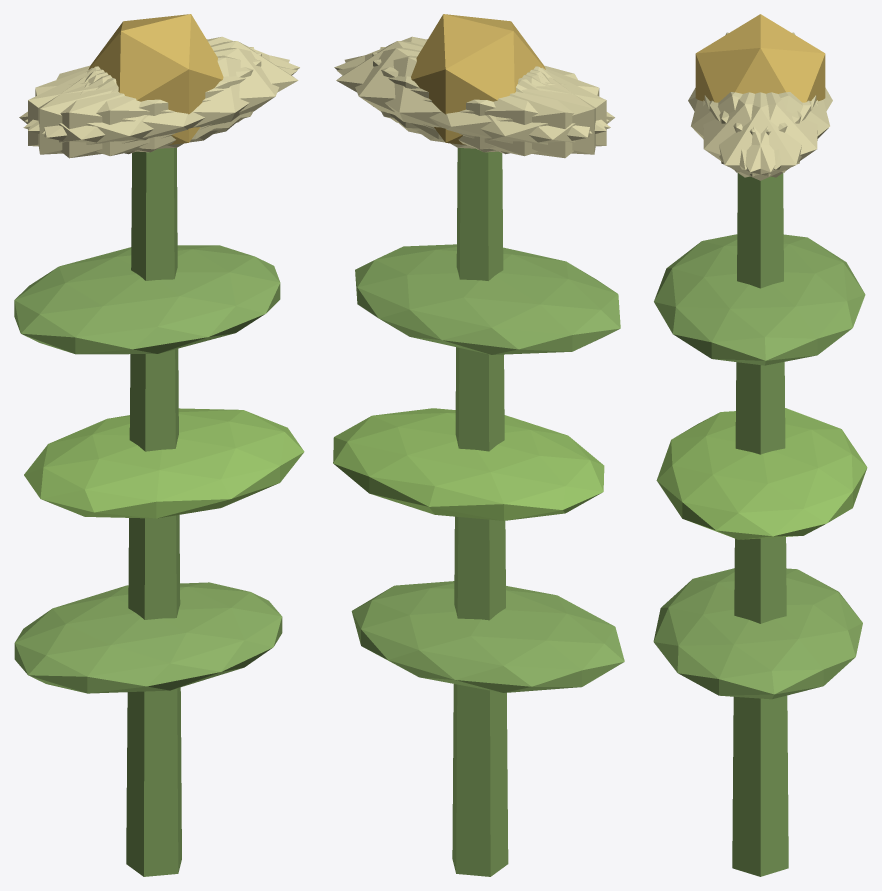
File: pachira-glabra.glb
The picture shows the model from 3 angles, left to right: view 1: azimuth 30°, elevation 25°; view 2: azimuth 150°, elevation 25°; view 3: azimuth 270°, elevation 25°; orthographic projection.
Visible parts, largest first — view 1: stem, leaf2, leaf1, leaf0, center, petal1, petal6, petal2, petal5, petal7, petal0, petal4 (+2 smaller); view 2: stem, leaf1, leaf2, leaf0, center, petal8, petal3, petal7, petal4, petal2, petal0, petal5 (+2 smaller); view 3: stem, leaf1, leaf2, leaf0, center, petal0, petal5, petal4, petal1, petal8.
Part boxes in pixels (x1,y1,x2,y2): stem: [126, 148, 181, 876]; leaf2: [14, 245, 280, 354]; leaf1: [24, 408, 304, 518]; leaf0: [14, 582, 282, 693]; center: [88, 14, 223, 144]; petal1: [23, 55, 297, 155]; petal6: [19, 68, 217, 158]; petal2: [38, 47, 253, 154]; petal5: [42, 47, 289, 149]; petal7: [28, 52, 261, 152]; petal0: [88, 41, 298, 139]; petal4: [25, 36, 299, 131]; stem: [452, 148, 508, 876]; leaf1: [333, 408, 604, 520]; leaf2: [355, 244, 620, 354]; leaf0: [351, 581, 624, 692]; center: [411, 14, 545, 144]; petal8: [337, 55, 610, 156]; petal3: [417, 67, 614, 158]; petal7: [380, 47, 595, 154]; petal4: [344, 48, 592, 149]; petal2: [372, 52, 606, 152]; petal0: [336, 41, 546, 139]; petal5: [334, 36, 609, 131]; stem: [732, 173, 788, 876]; leaf1: [656, 408, 867, 539]; leaf2: [654, 234, 865, 365]; leaf0: [653, 568, 862, 699]; center: [695, 14, 825, 102]; petal0: [704, 92, 816, 180]; petal5: [703, 92, 811, 177]; petal4: [709, 92, 817, 177]; petal1: [691, 92, 801, 169]; petal8: [719, 92, 829, 169].
Bounding box in the file's own units: 0.1497 × 0.4337 × 0.1009.
